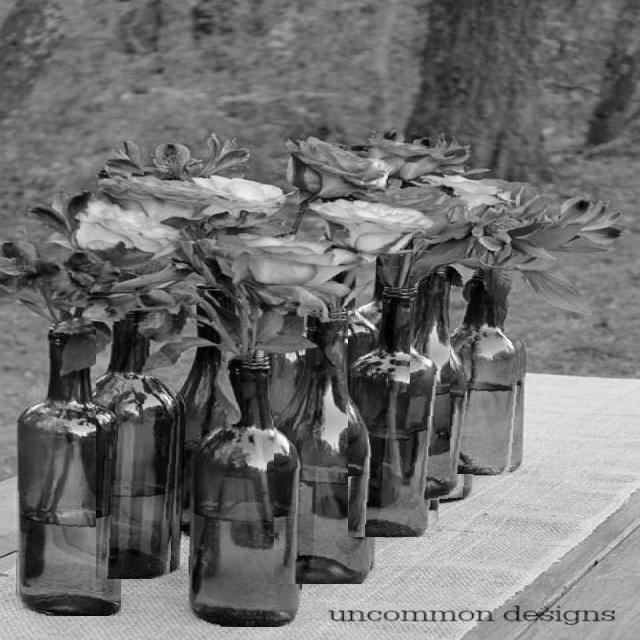Glass: (13, 321, 122, 616), (188, 353, 304, 628), (274, 308, 376, 584), (348, 286, 447, 538), (96, 314, 183, 579), (410, 276, 478, 504), (451, 271, 526, 474)
